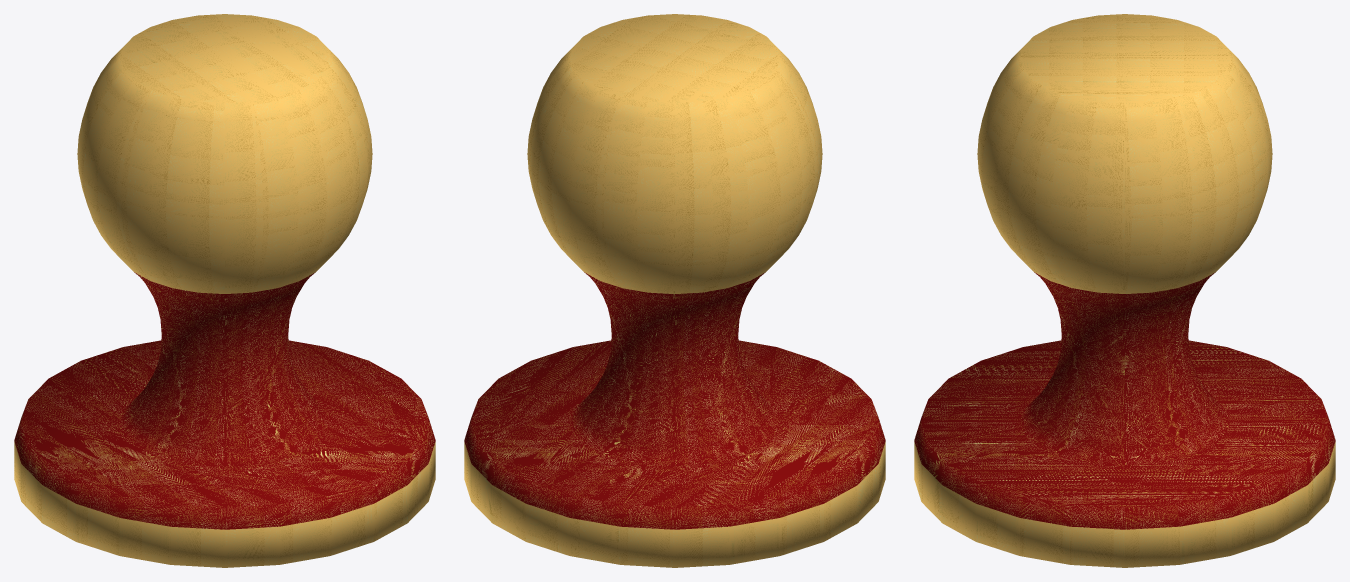
3 renders of one model, left to right at view 1: azimuth 30°, elevation 25°; view 2: azimuth 150°, elevation 25°; view 3: azimuth 270°, elevation 25°, orthographic.
Parts seen in each view (by area): view 1: group_0 (×4); view 2: group_0 (×4); view 3: group_0 (×4).
Part boxes in pixels (x1,y1,x2,y2): group_0 (×4): (14,14,435,567); group_0 (×4): (464,14,885,567); group_0 (×4): (914,14,1335,567).
Bounding box in the file's own units: 39.37 × 39.37 × 43.31.
